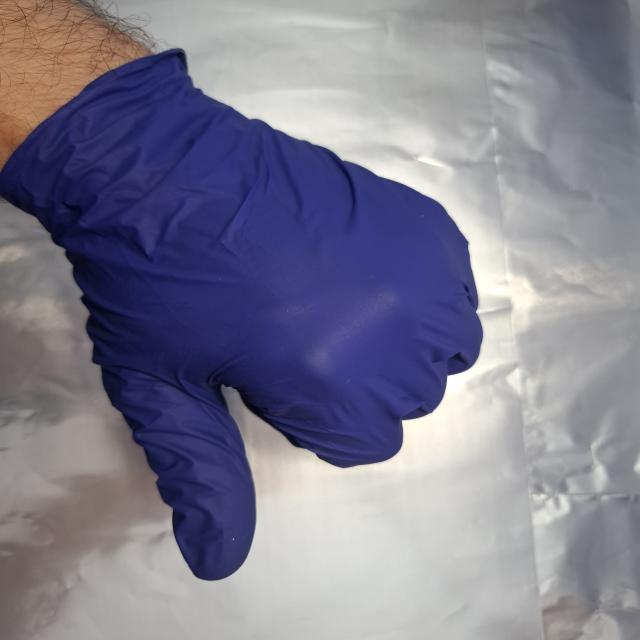glove_on: (26, 57, 486, 584)
